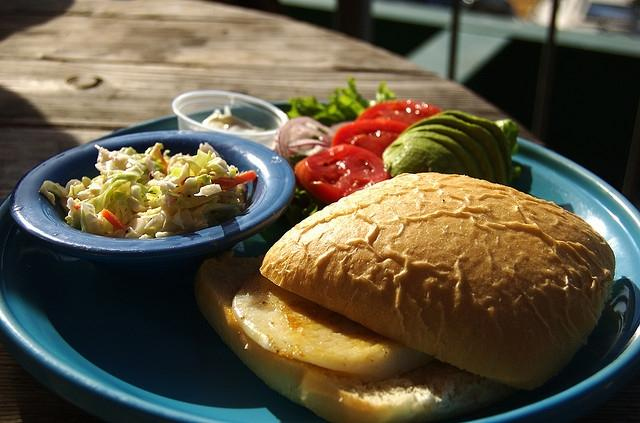avocado: (382, 110, 514, 188)
tomato: (294, 142, 390, 204), (331, 118, 410, 160), (354, 100, 444, 126)
